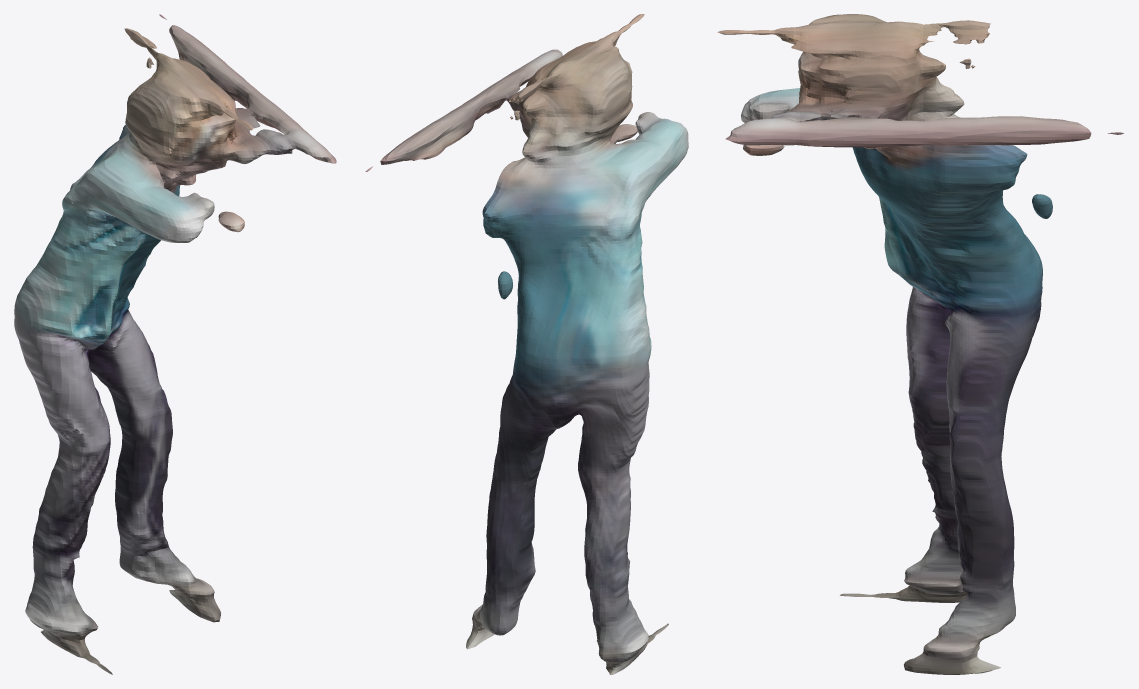
File: 0087_tex.glb
The picture shows the model from 3 angles, left to right: view 1: azimuth 30°, elevation 25°; view 2: azimuth 150°, elevation 25°; view 3: azimuth 270°, elevation 25°; orthographic projection. The views are drawn at different scales.
Visible parts, largest first — view 1: 0087_tex.obj; view 2: 0087_tex.obj; view 3: 0087_tex.obj.
Boxes of the visible parts, left/top/right/bottom form: 0087_tex.obj: left=14, top=14, right=336, bottom=674; 0087_tex.obj: left=365, top=14, right=688, bottom=674; 0087_tex.obj: left=717, top=14, right=1123, bottom=674.
Size of the model in its own units: 0.3327 by 0.8716 by 0.5162.
